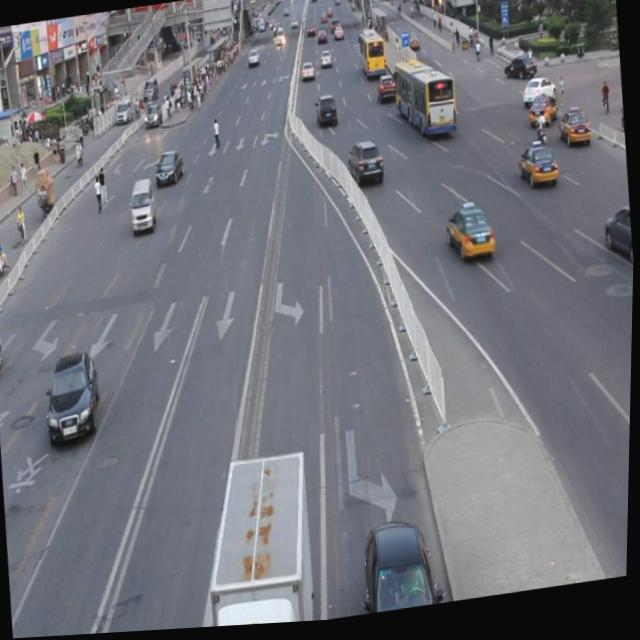bus: (201, 451, 321, 630)
car: (358, 516, 441, 619), (43, 348, 105, 446), (443, 208, 497, 268), (602, 210, 635, 272), (516, 148, 558, 196), (346, 141, 385, 192), (558, 115, 593, 157)
truck: (128, 178, 158, 235)
